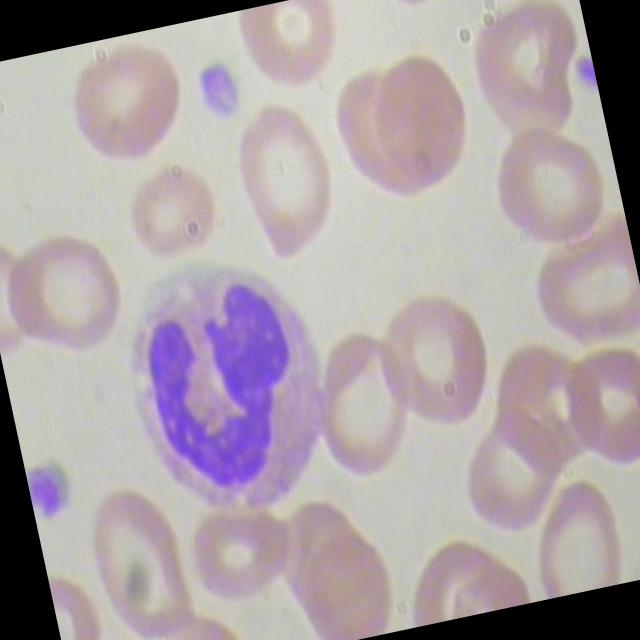Platelets: (21, 437, 89, 532), (191, 55, 250, 133)
RBC: (296, 312, 432, 492), (0, 223, 143, 381), (370, 284, 508, 445), (226, 92, 352, 268), (461, 0, 601, 158), (73, 475, 207, 640), (437, 399, 579, 551), (481, 111, 620, 266), (364, 45, 490, 214), (62, 38, 204, 183), (516, 212, 640, 370), (180, 496, 310, 615), (518, 471, 633, 600), (289, 519, 407, 640), (118, 150, 234, 272), (555, 336, 640, 484), (233, 0, 355, 101)
WBC: (106, 239, 354, 536)
